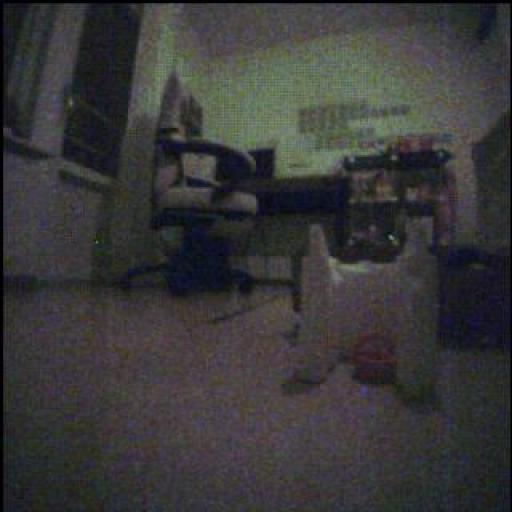basket: (353, 334, 398, 385)
